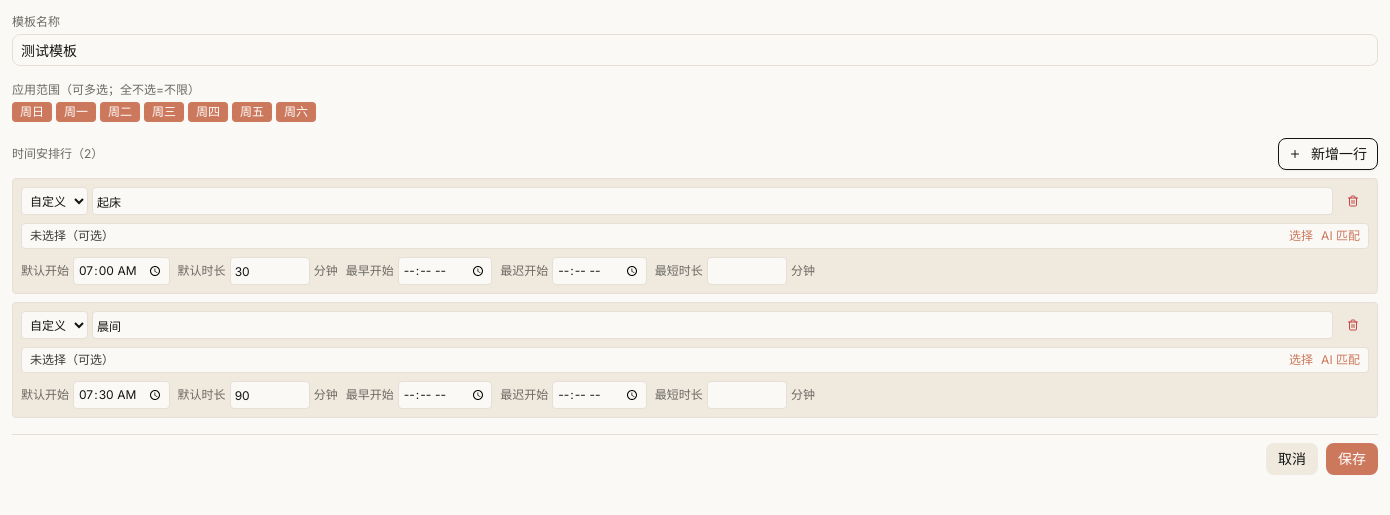
it: TemplateEditForm — 来源切换 › source=object 但未选 sourceId 时应显示「请选择来源对象」
Select "习惯" in the 1st dropdown named "行来源". click: x=54, y=201
box: [21, 187, 88, 215]
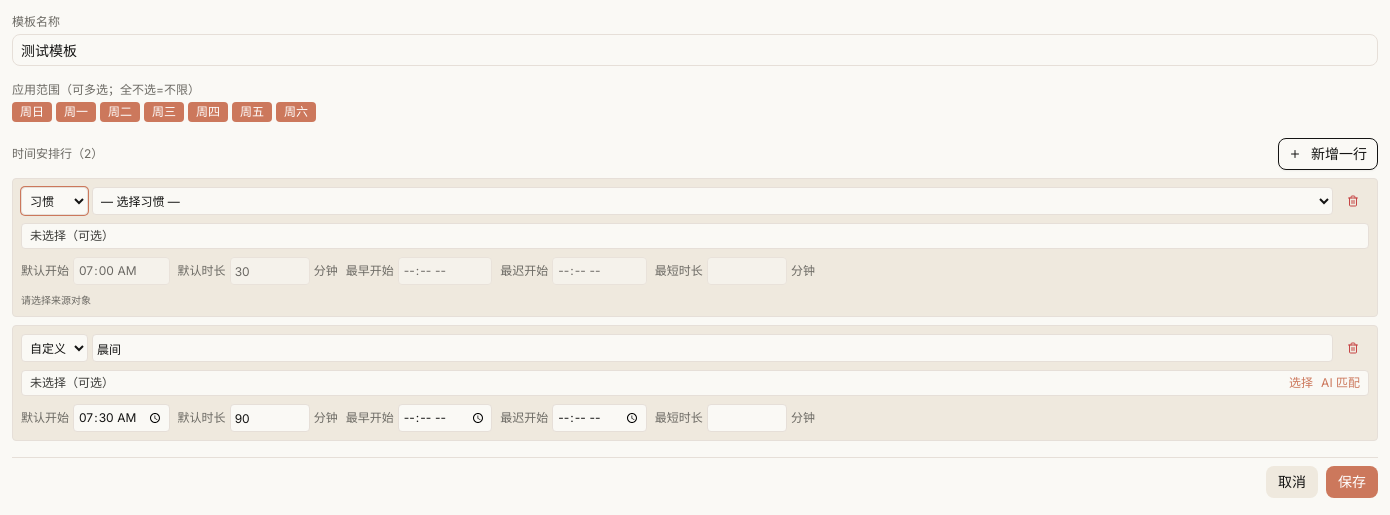
Expected: the text "请选择来源对象" is shown, [21, 294, 91, 306]
